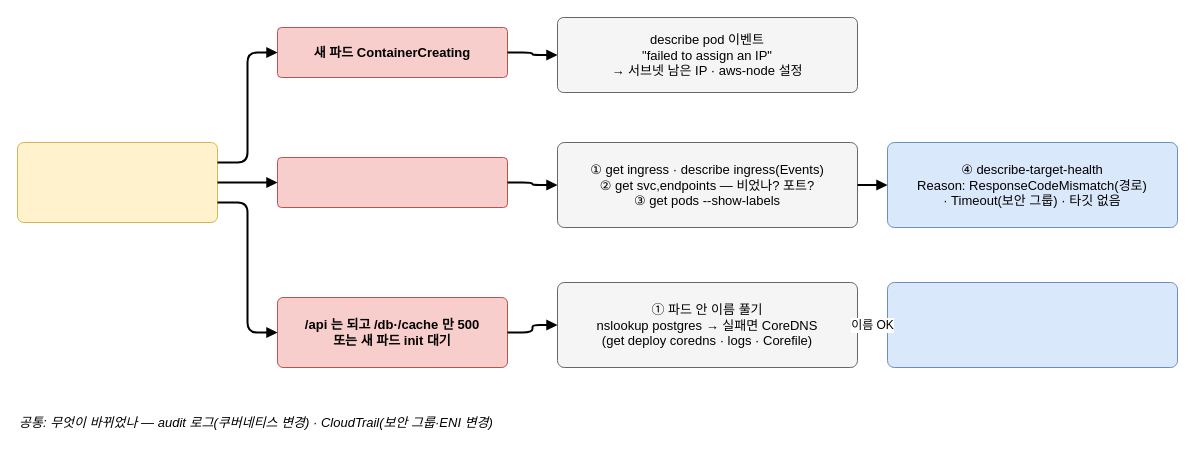
This 1195x455 diagram has some shape labels left out. Here are the shapes that lost their labels. From the top down, the box of each, then its label:
(16, 142, 218, 222): 증상부터 (사용자 응답 코드 · 파드 상태)
(276, 156, 508, 208): ALB 503 · 502 · 504
(886, 282, 1178, 368): ② 이름은 풀리는데 접속 실패 get networkpolicy(라벨·포트·Egress 53) · 파드 보안 그룹 · 클러스터 SG
